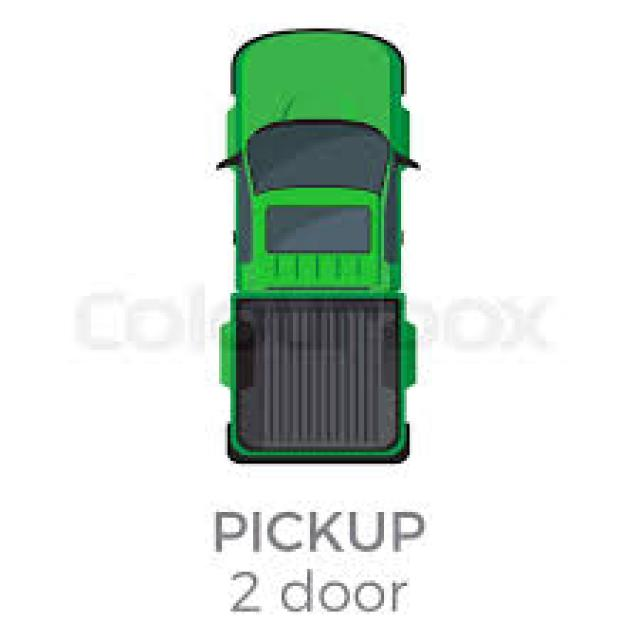truck: (224, 26, 409, 467)
